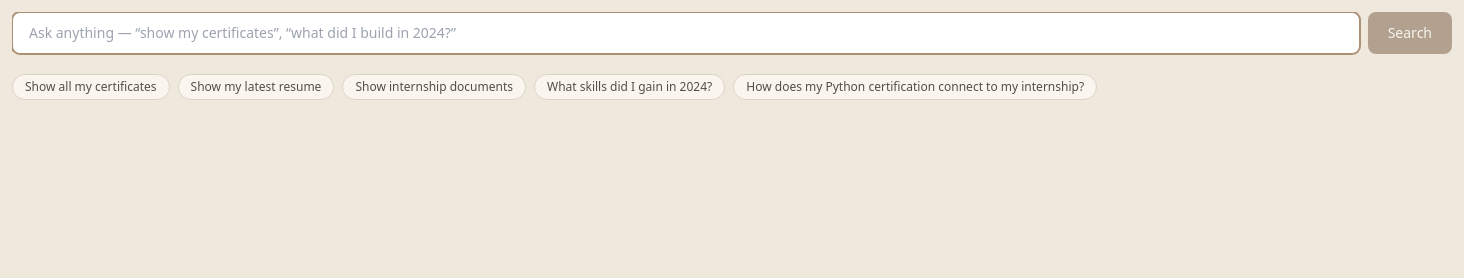
it: Search fallback notice › says the results are the closest matches, not an exact match
In the search field: {"x": 686, "y": 33} [12, 12, 1360, 54], type "show my internships"
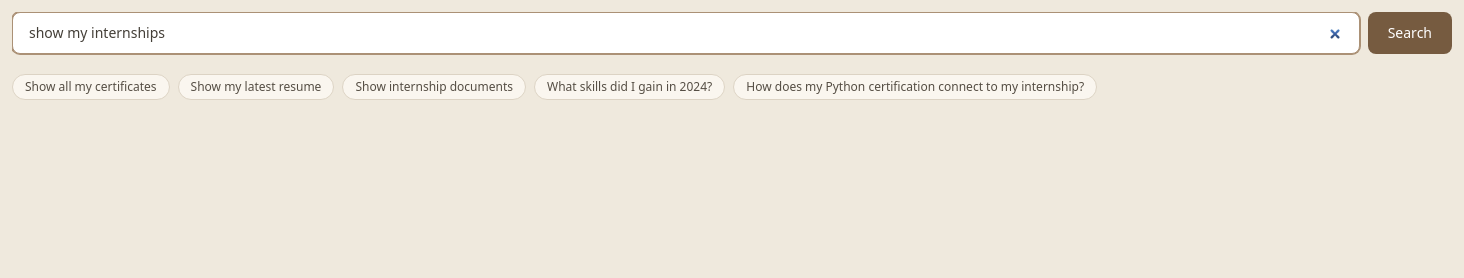
Click the button "Search": {"x": 1410, "y": 33} [1368, 12, 1452, 54]
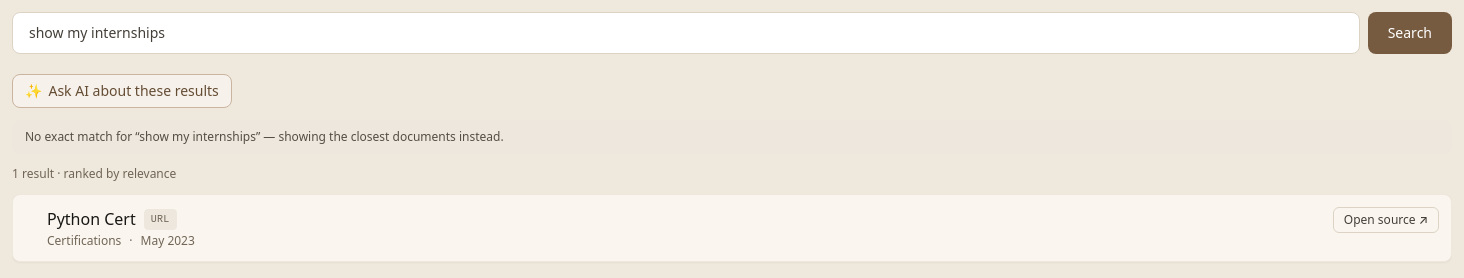
Check: the text "No exact match" is shown, box [25, 128, 139, 145]
Check: the text "closest documents instead" is shown, box [256, 128, 504, 145]
